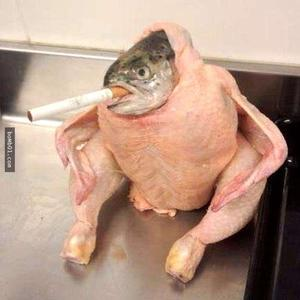cigarette: (23, 83, 123, 127)
